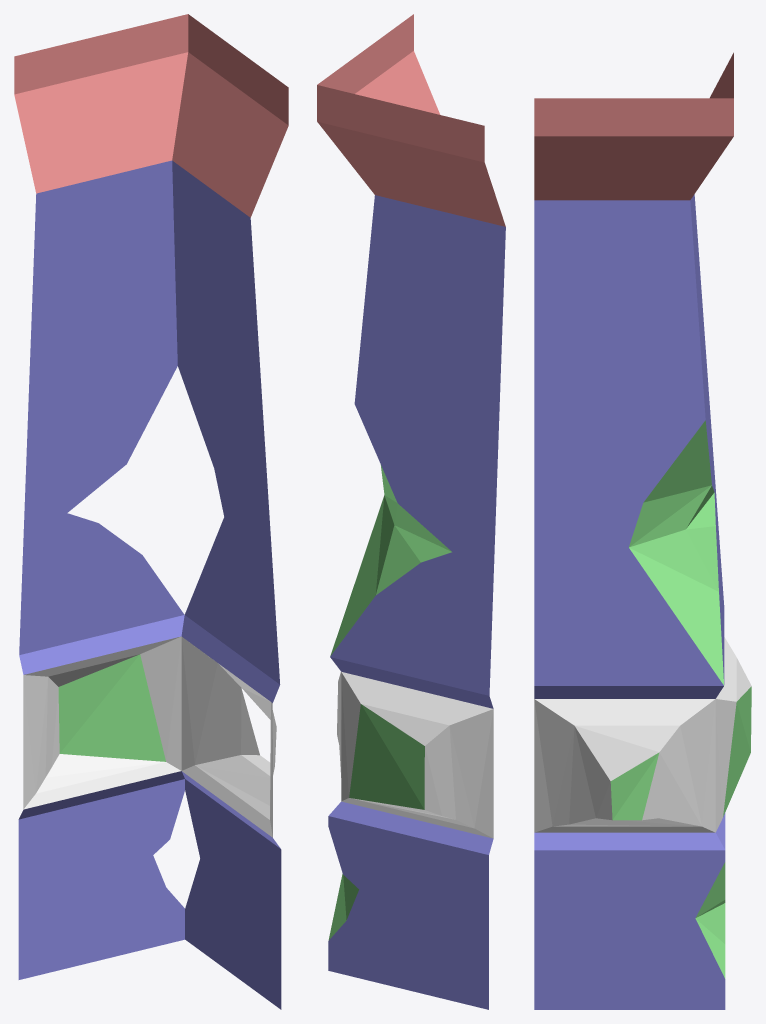
The model's file is SSQ_BRoom02_pillar.gltf.
The picture shows the model from 3 angles, left to right: view 1: azimuth 30°, elevation 25°; view 2: azimuth 150°, elevation 25°; view 3: azimuth 270°, elevation 25°; orthographic projection. The views are drawn at different scales.
Parts seen in each view (by area): view 1: SSQ_BRoom02_pillar; view 2: SSQ_BRoom02_pillar; view 3: SSQ_BRoom02_pillar.
Boxes of the visible parts, x1,y1,x2,y2 form: SSQ_BRoom02_pillar: (14,14,288,1009); SSQ_BRoom02_pillar: (317,14,505,1009); SSQ_BRoom02_pillar: (534,52,751,1009).
Bounding box in the file's own units: 0.8849 × 3.88 × 0.8365.
